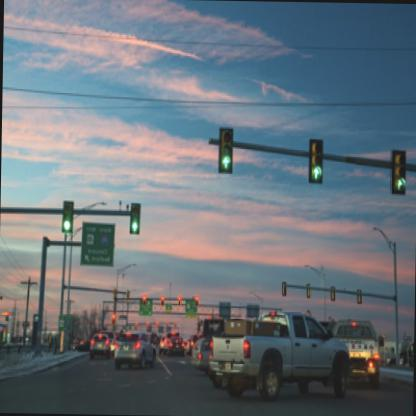trafficlight: (219, 125, 236, 174), (392, 146, 408, 196), (308, 134, 324, 182), (130, 198, 145, 233), (63, 193, 75, 228)
